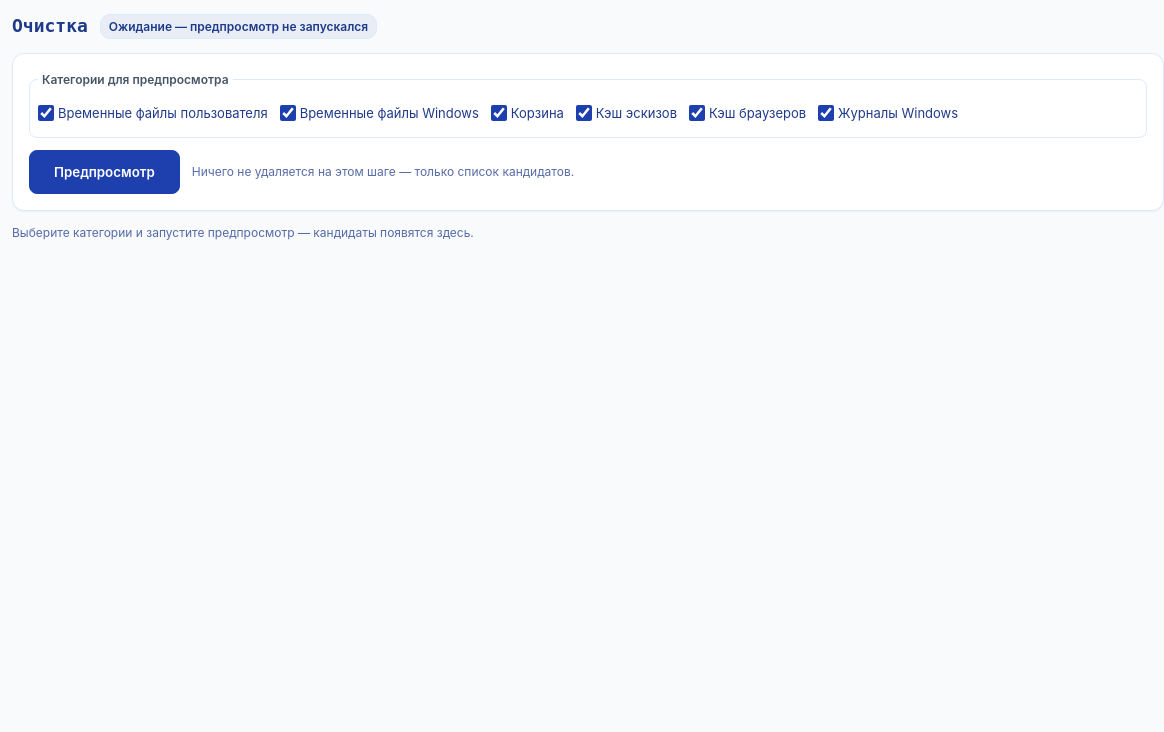
Test: cleaner — CleanerPage (jsdom project) › marks the preview stale and clears the selection when categories change
Click the button "Предпросмотр" at (104, 172), box left=29, top=150, right=180, bottom=194
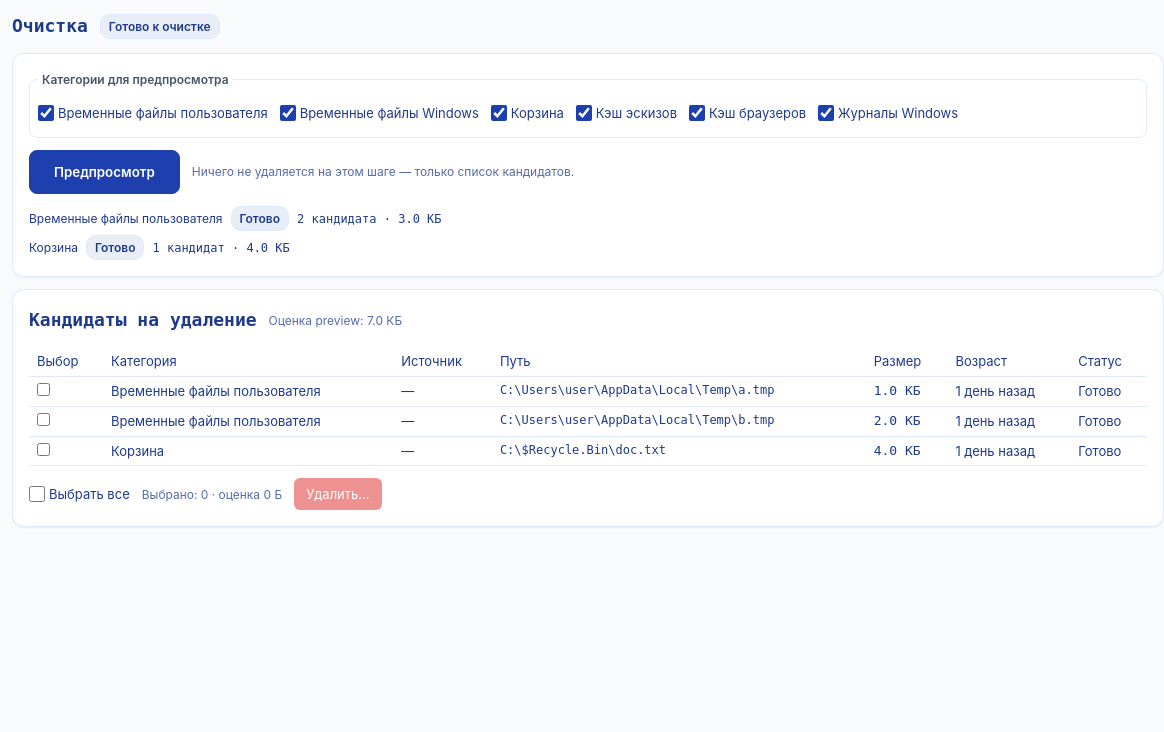
Result: the heading "Кандидаты на удаление" is shown at left=29, top=306, right=257, bottom=335
Click the checkbox named "Выбрать C:\\Users\\user\\AppData\\Local\\Temp\\a.tmp" at (44, 390), box left=37, top=383, right=50, bottom=396
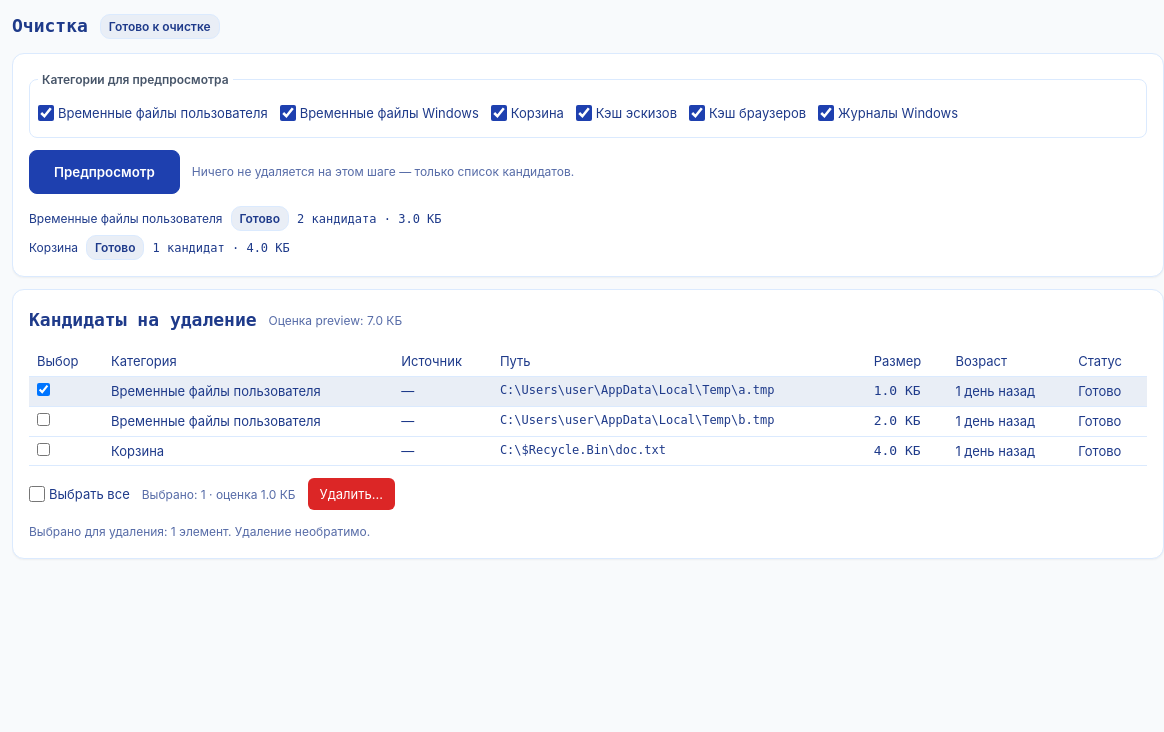
Click the checkbox labelled "Журналы Windows" at (826, 113), box left=818, top=105, right=834, bottom=121
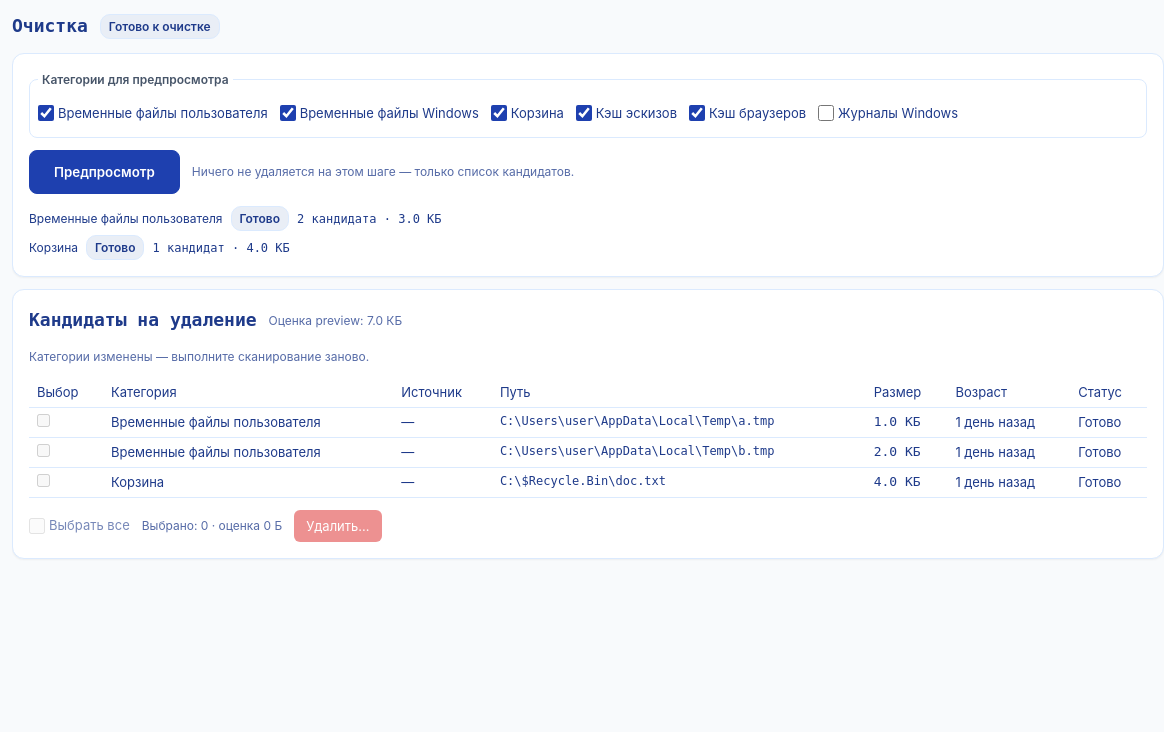
Result: the text "Категории изменены — выполните сканирование заново." is shown at left=29, top=349, right=369, bottom=364
Result: the button "Удалить…" is disabled at left=294, top=510, right=382, bottom=542
